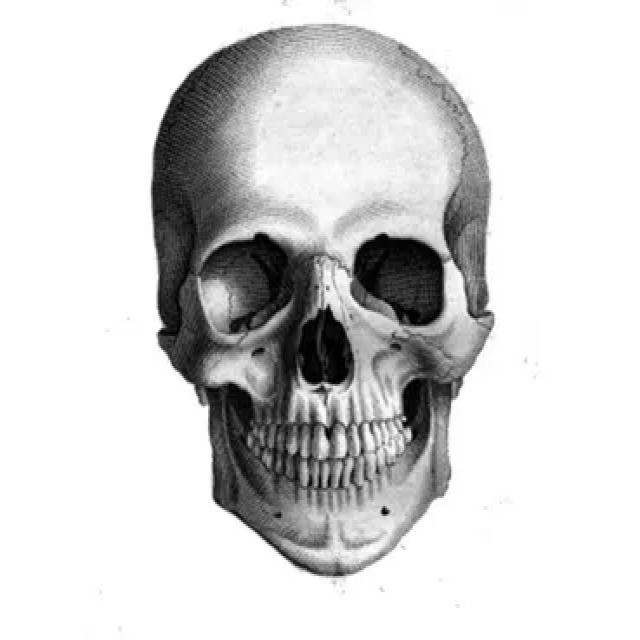skull: (139, 11, 503, 581)
